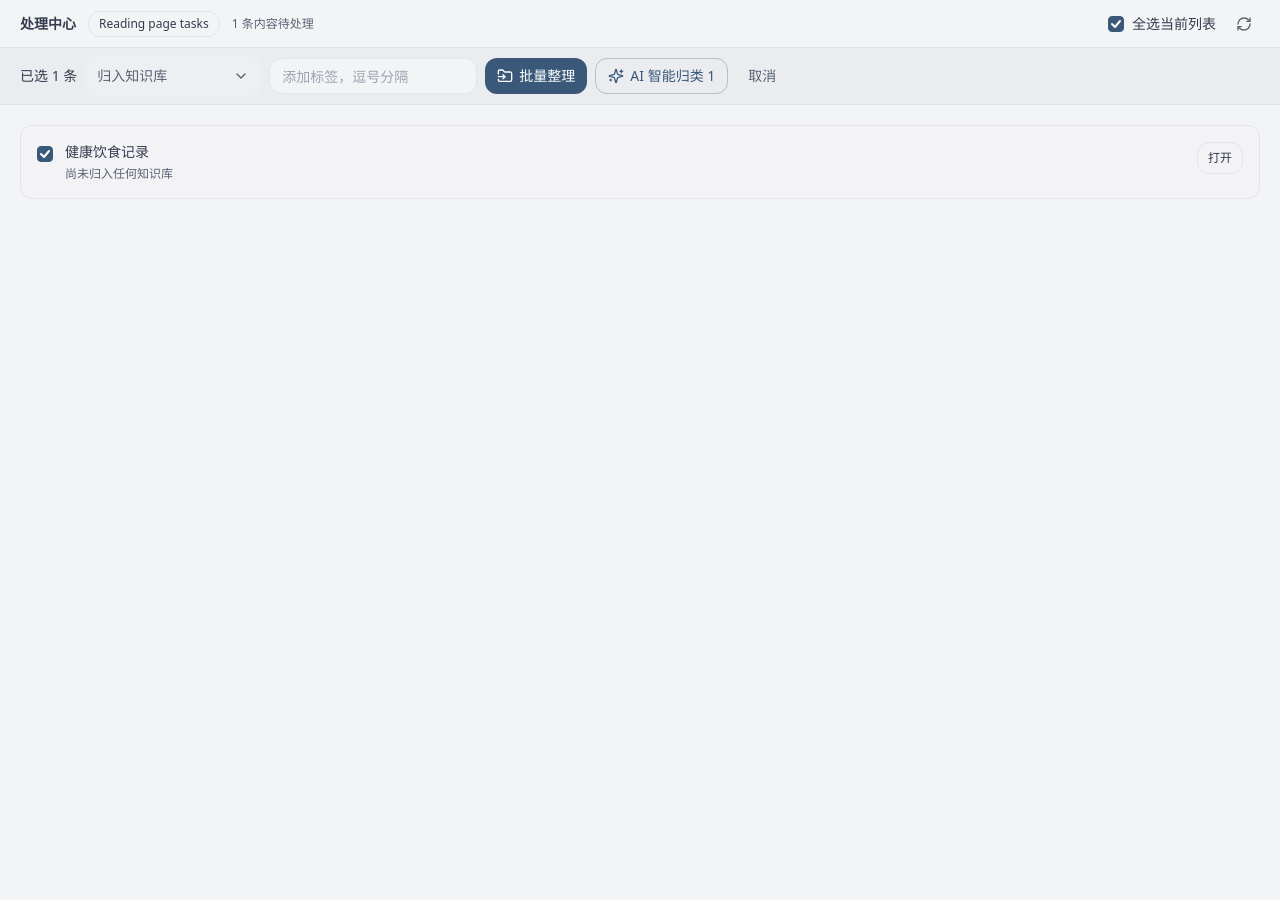
it: 处理中心聚合任务 › 对已选未分类条目执行 AI 智能归类，并回执新建知识库
This screenshot has width=1280, height=900.
Click the button "AI 智能归类 1" at (662, 76), box x1=595 y1=58 x2=728 y2=94
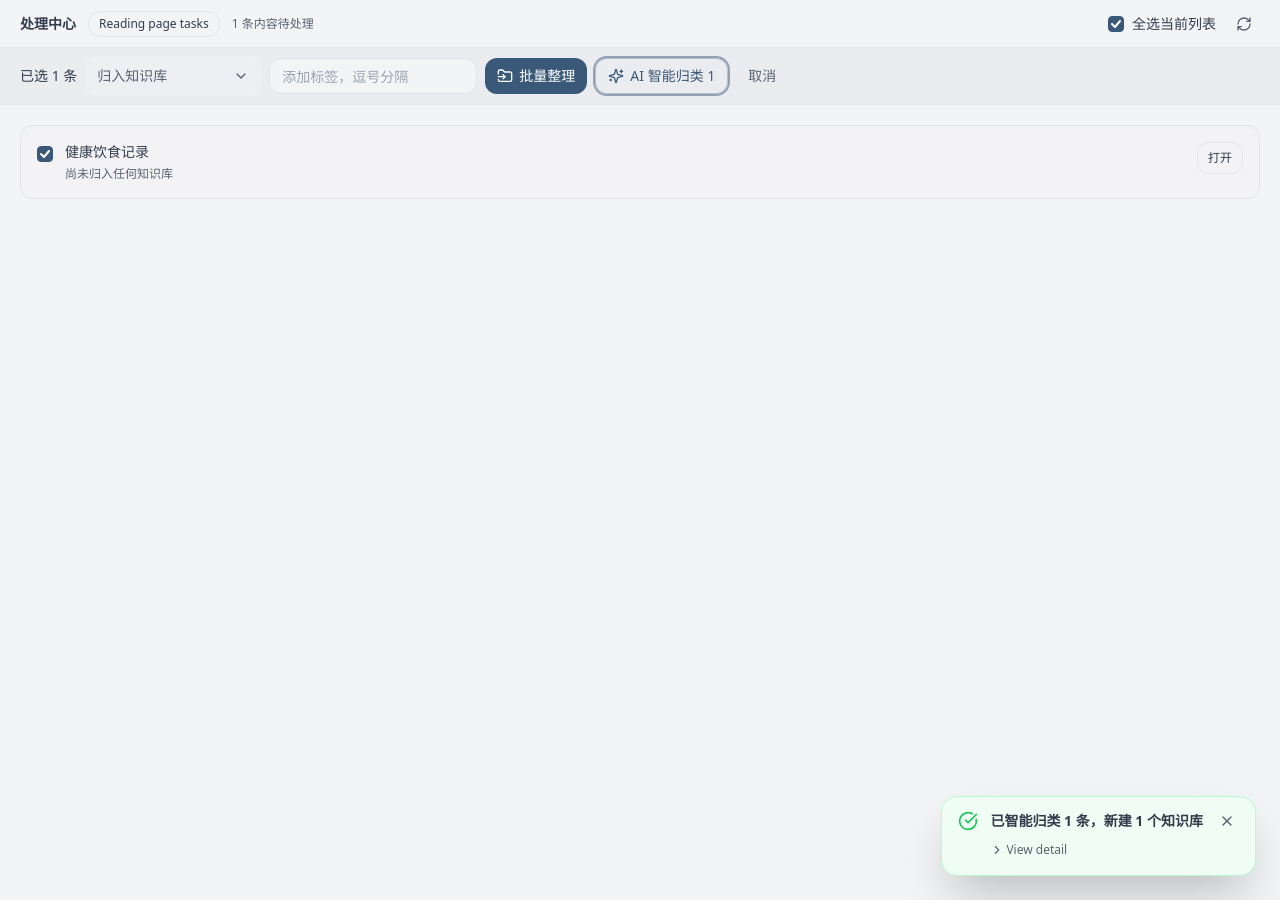
Result: the text "已智能归类 1 条，新建 1 个知识库" is shown at x1=990 y1=811 x2=1203 y2=831
